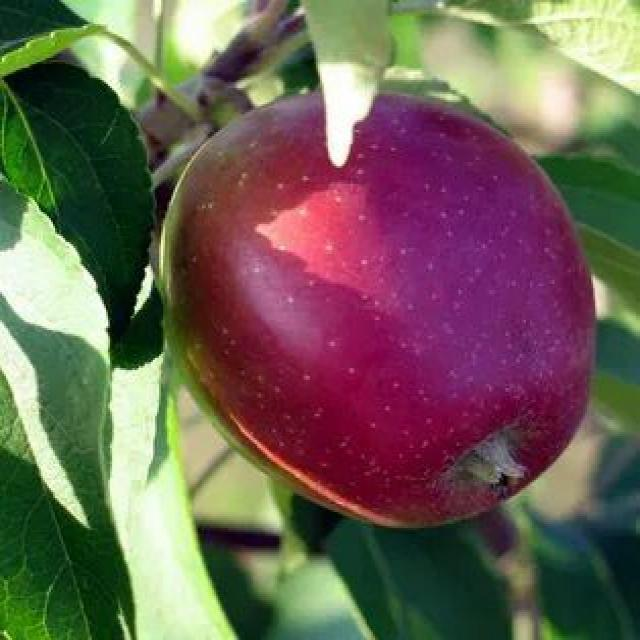Fresh Apple: (170, 85, 578, 532)
